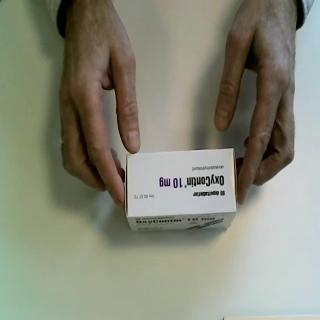oxynorm10mg: (125, 147, 239, 234)
